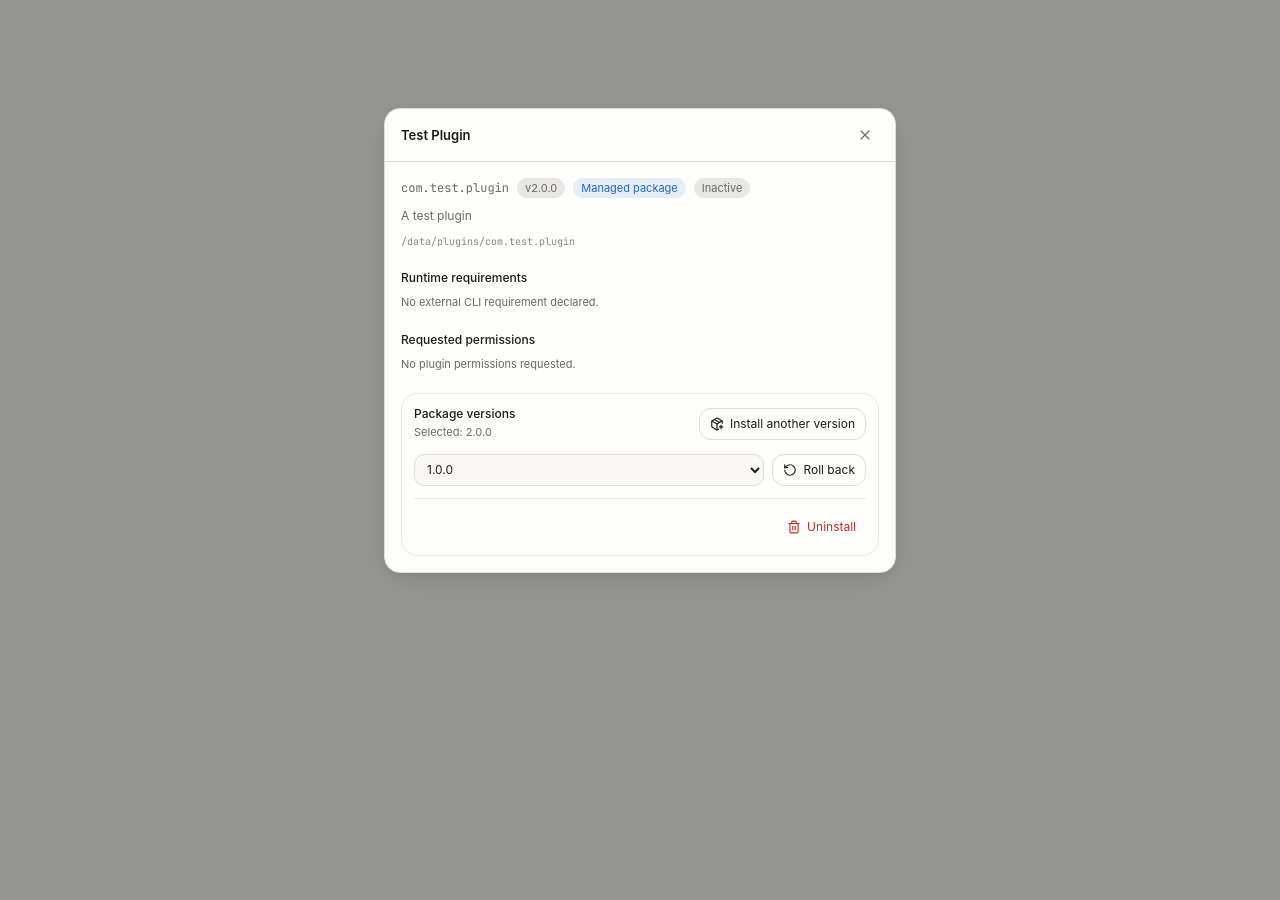
Test: PluginDetailModal › shows an inline error when rollback fails
The image size is (1280, 900).
Click the button "Roll back" at (819, 470), box [772,454,866,486]
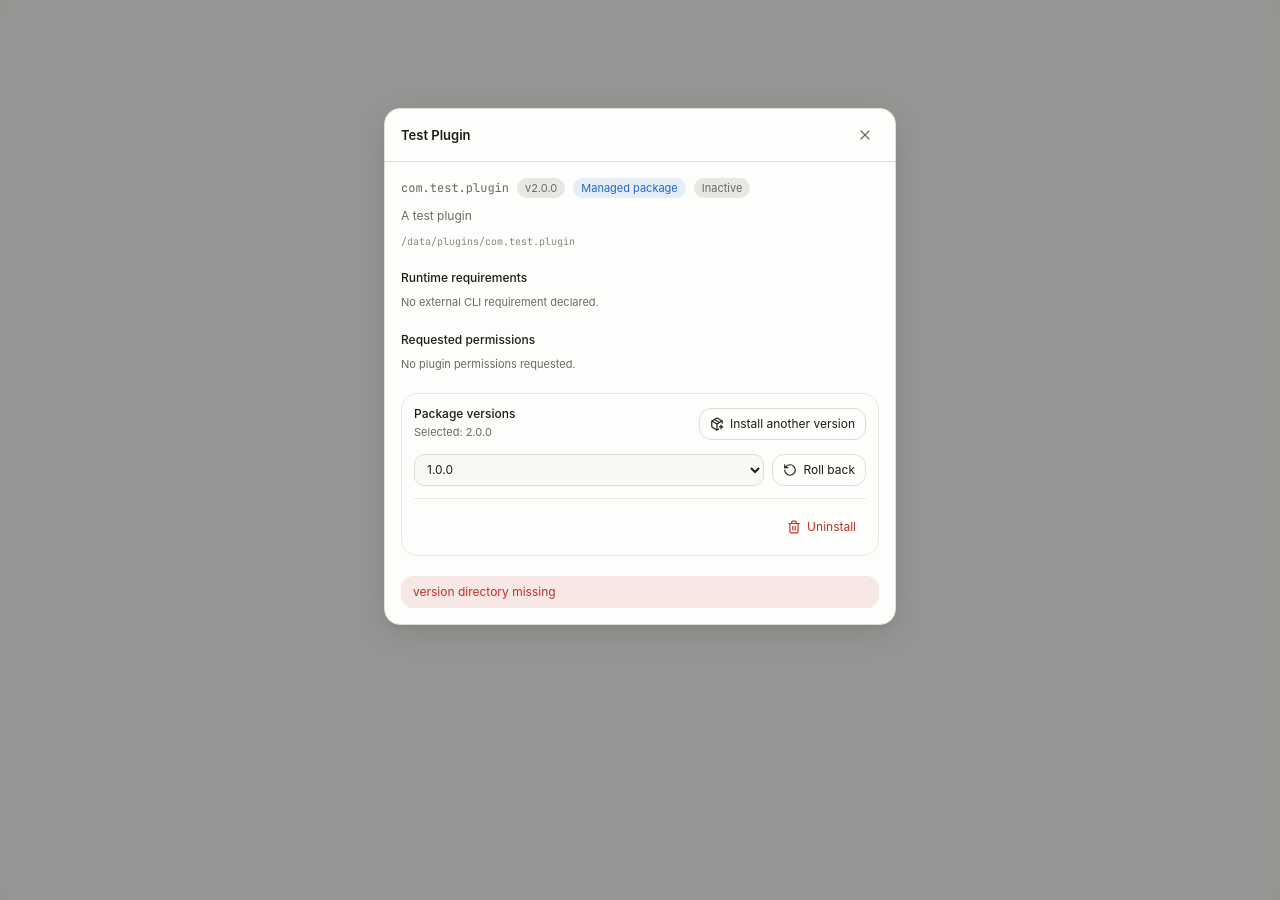
expect the message reads "version directory missing": met, box [413,584,556,599]
